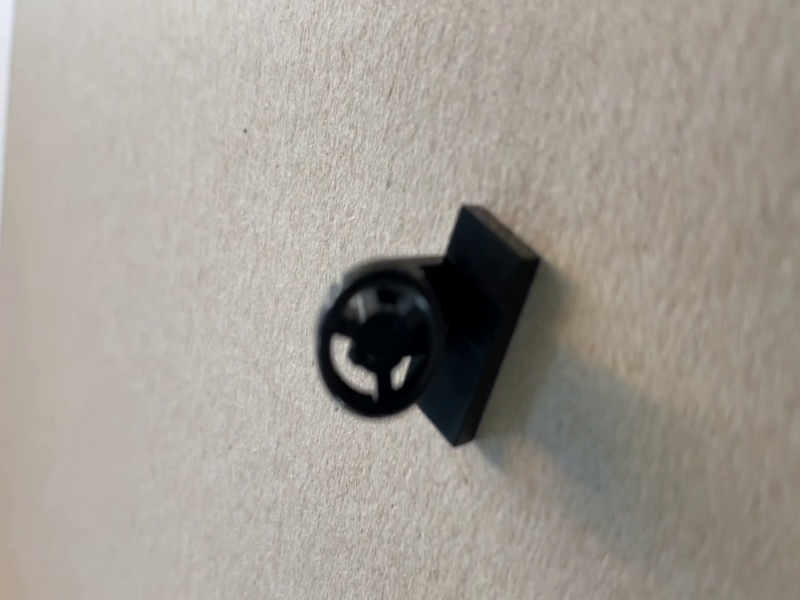steering wheel: (316, 205, 542, 448)
